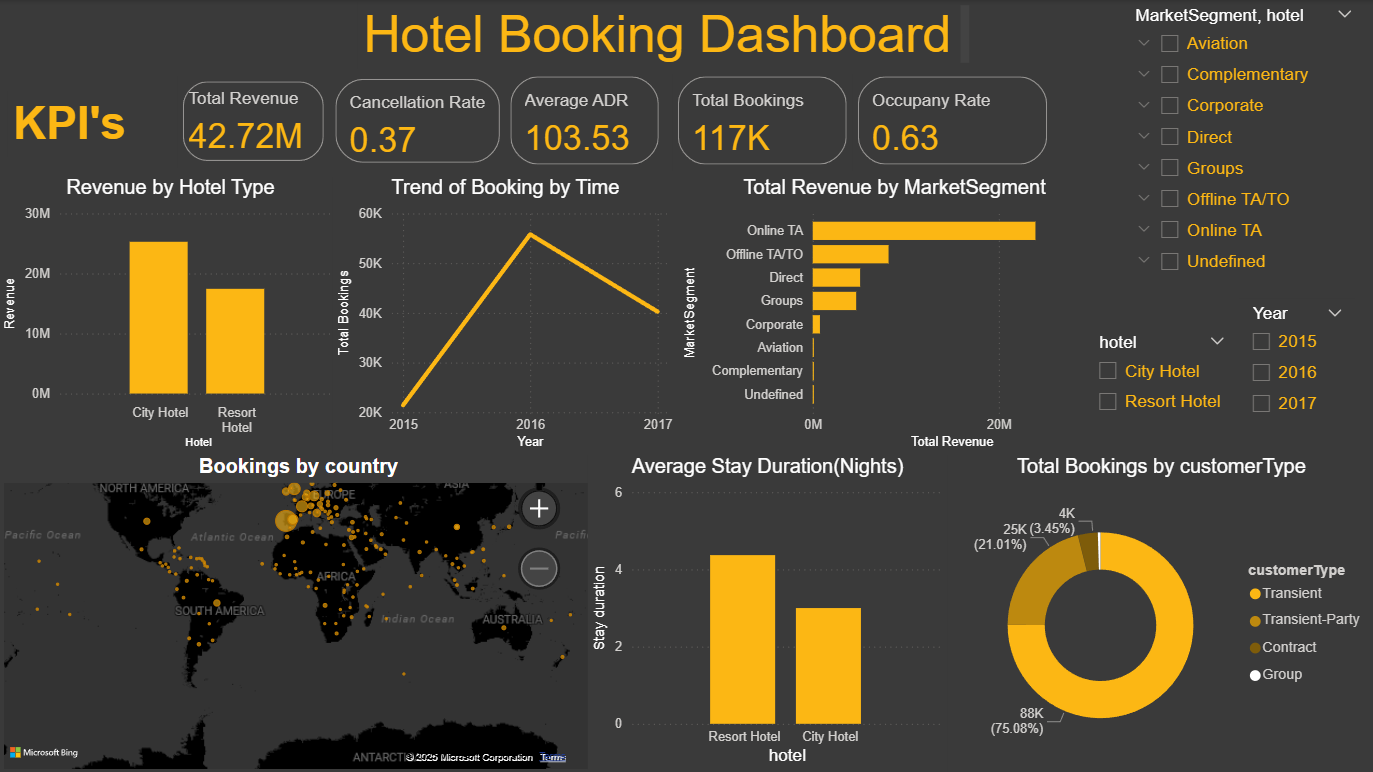

The page's visual inventory and layout, read from the dashboard file:
{"tool":"powerbi","page":{"name":"Page 1","canvas":[1280,720],"ordinal":0},"visuals":[{"type":"clusteredColumnChart","title":"Revenue by Hotel Type","fields":{"Y":["hotel_bookings.Total Revenue"],"Category":["hotel_bookings.hotel"]},"box":[0,164.3,319,258.3],"z":0},{"type":"map","title":" Bookings by country","fields":{"Size":["hotel_bookings.Total Bookings"],"Category":["hotel_bookings.country"]},"box":[0,423.8,557.1,296.4],"z":1000},{"type":"lineChart","title":"Trend of Booking by Time","fields":{"Category":["hotel_bookings.Date.Variation.Date Hierarchy.Year","hotel_bookings.Date.Variation.Date Hierarchy.Quarter","hotel_bookings.Date.Variation.Date Hierarchy.Month","hotel_bookings.Date.Variation.Date Hierarchy.Day"],"Y":["hotel_bookings.Total Bookings"]},"box":[310.7,164.3,321.4,258.3],"z":2000},{"type":"donutChart","fields":{"Y":["hotel_bookings.Total Bookings"],"Category":["hotel_bookings.customerType"]},"box":[882.1,423.8,397.6,296.4],"z":3000},{"type":"clusteredBarChart","fields":{"Category":["hotel_bookings.MarketSegment"],"Y":["hotel_bookings.Total Revenue"]},"box":[632.1,164.3,401.2,258.3],"z":4000},{"type":"clusteredColumnChart","title":"Average Stay Duration(Nights)","fields":{"Category":["hotel_bookings.hotel"],"Y":["hotel_bookings.Average stay duration"]},"box":[547.6,423.8,334.5,292.9],"z":5000},{"type":"cardVisual","fields":{"Data":["hotel_bookings.Total Revenue"]},"box":[166.7,71.4,141.7,84.5],"z":6000},{"type":"cardVisual","fields":{"Data":["hotel_bookings.Total Bookings"]},"box":[626.2,66.7,167.9,92.9],"z":7000},{"type":"cardVisual","fields":{"Data":["hotel_bookings.Occupany Rate"]},"box":[794,66.7,186.9,92.9],"z":8000},{"type":"cardVisual","fields":{"Data":["hotel_bookings.Cancellation Rate"]},"box":[308.3,69,163.1,88.1],"z":9000},{"type":"cardVisual","fields":{"Data":["hotel_bookings.Average ADR"]},"box":[471.4,66.7,148.8,92.9],"z":10000},{"type":"slicer","fields":{"Values":["hotel_bookings.Year"]},"box":[1153.6,277.4,108.3,116.7],"z":11000},{"type":"slicer","fields":{"Values":["hotel_bookings.MarketSegment","hotel_bookings.hotel"]},"box":[1044.2,0,226.7,277.9],"z":12000},{"type":"slicer","fields":{"Values":["hotel_bookings.hotel"]},"box":[1010.7,304.8,141.7,89.3],"z":13000},{"type":"textbox","box":[8.3,84.5,140.5,60.7],"z":14000},{"type":"textbox","box":[333.3,0,573.8,64.3],"z":15000}]}

Visuals, with their boxes in screenshot pixels (x1, y1, x2, y2), scaled from the page's 1280x720 canvas onto the 1373x772 screenshot:
"Revenue by Hotel Type" clusteredColumnChart: left=0, top=176, right=342, bottom=453
" Bookings by country" map: left=0, top=454, right=598, bottom=771
"Trend of Booking by Time" lineChart: left=333, top=176, right=678, bottom=453
donutChart - hotel_bookings.Total Bookings x hotel_bookings.customerType: left=946, top=454, right=1372, bottom=771
clusteredBarChart - hotel_bookings.MarketSegment x hotel_bookings.Total Revenue: left=678, top=176, right=1108, bottom=453
"Average Stay Duration(Nights)" clusteredColumnChart: left=587, top=454, right=946, bottom=768
cardVisual - hotel_bookings.Total Revenue: left=179, top=77, right=331, bottom=167
cardVisual - hotel_bookings.Total Bookings: left=672, top=72, right=852, bottom=171
cardVisual - hotel_bookings.Occupany Rate: left=852, top=72, right=1052, bottom=171
cardVisual - hotel_bookings.Cancellation Rate: left=331, top=74, right=506, bottom=168
cardVisual - hotel_bookings.Average ADR: left=506, top=72, right=665, bottom=171
slicer - hotel_bookings.Year: left=1237, top=297, right=1354, bottom=423
slicer - hotel_bookings.MarketSegment x hotel_bookings.hotel: left=1120, top=0, right=1363, bottom=298
slicer - hotel_bookings.hotel: left=1084, top=327, right=1236, bottom=423
textbox: left=9, top=91, right=160, bottom=156
textbox: left=358, top=0, right=973, bottom=69
